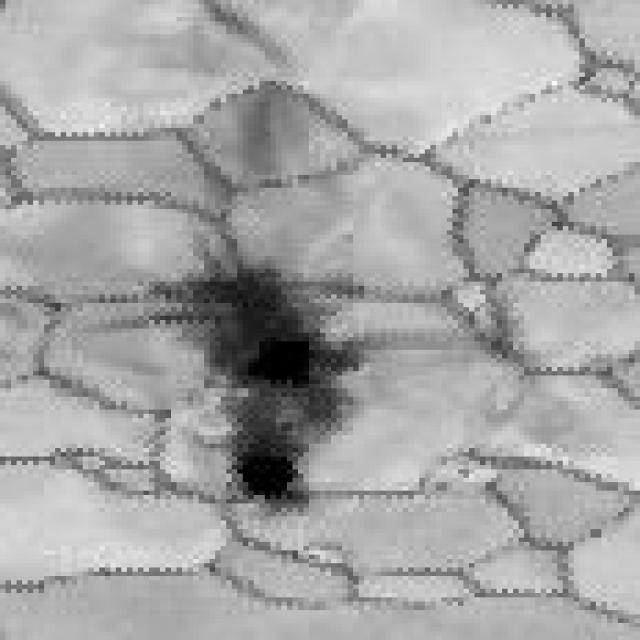good_void: (144, 225, 382, 510)
